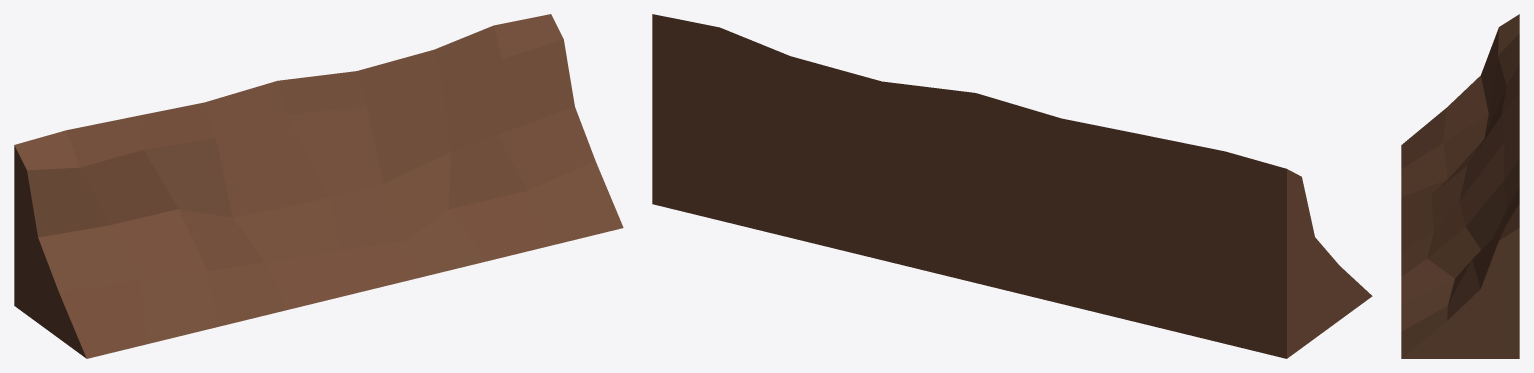
Rendered from CaveWallLow.fbx.
3 views of the same model, side by side, from view 1: azimuth 30°, elevation 25°; view 2: azimuth 150°, elevation 25°; view 3: azimuth 270°, elevation 25° (orthographic). The views are drawn at different scales.
Parts seen in each view (by area): view 1: CaveWallLow; view 2: CaveWallLow; view 3: CaveWallLow.
Boxes of the visible parts, left/top/right/bottom form: CaveWallLow: left=14, top=14, right=623, bottom=358; CaveWallLow: left=652, top=14, right=1372, bottom=358; CaveWallLow: left=1401, top=14, right=1519, bottom=358.
Size of the model in its own units: 500 by 145 by 117.
Materials: 1 (1 with a texture image).
